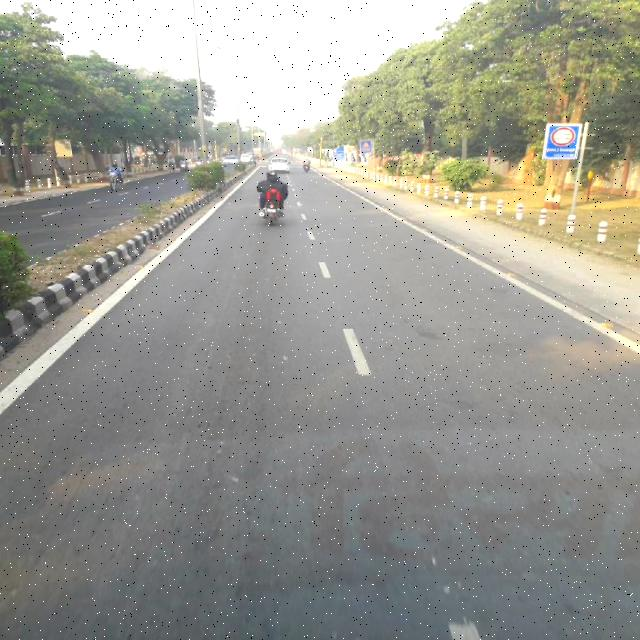D20: (193, 314, 285, 540)
